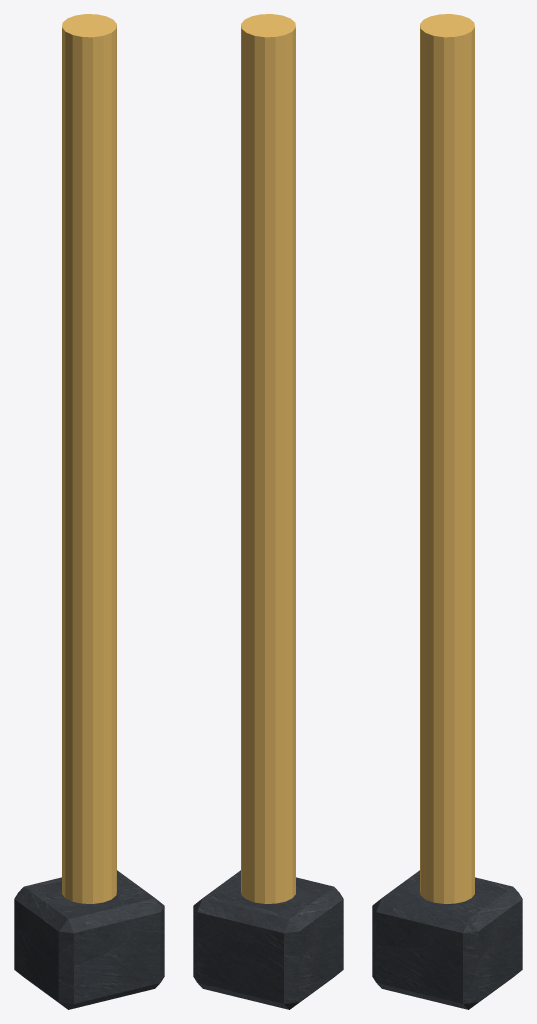
The model's file is train_handrail_post.gltf.
3 views of the same model, side by side, from view 1: azimuth 30°, elevation 25°; view 2: azimuth 150°, elevation 25°; view 3: azimuth 330°, elevation 25° (orthographic).
Size of the model in its own units: 0.11 by 0.95 by 0.1.
2 materials, 1 textured.
